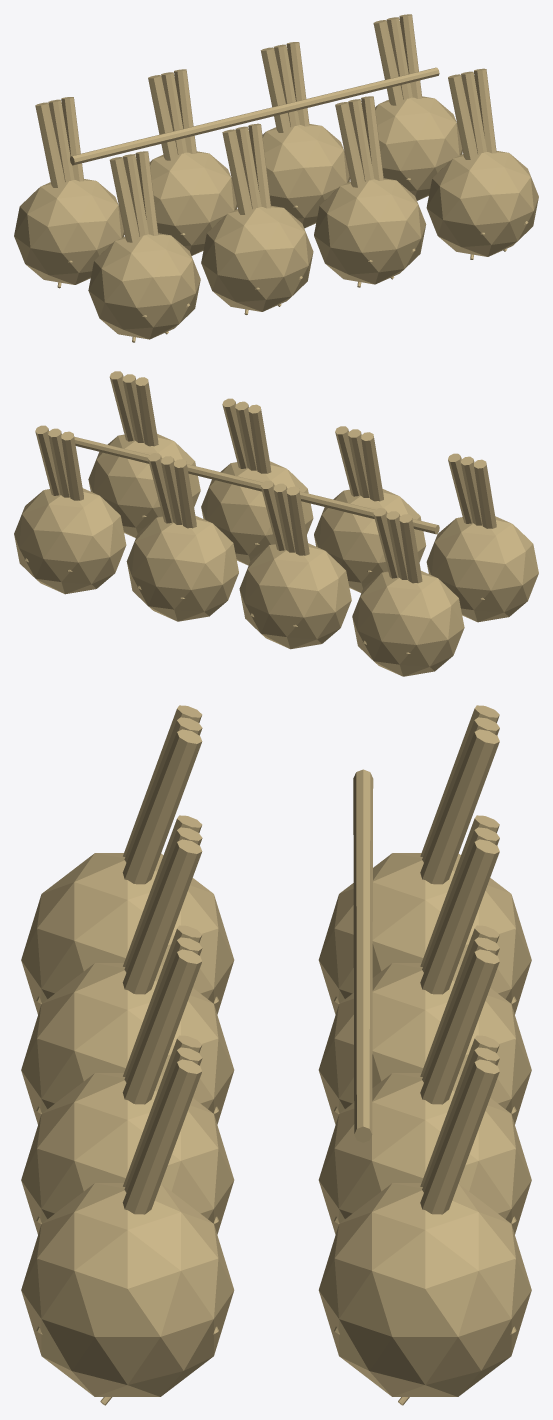
File: GF-004.curing-bulbs.glb
3 renders of one model, top to bottom at view 1: azimuth 30°, elevation 25°; view 2: azimuth 150°, elevation 25°; view 3: azimuth 270°, elevation 25°, orthographic. The views are drawn at different scales.
Parts seen in each view (by area): view 1: GF-004.curing-bulbs GF-004.curing-bulbs batched; view 2: GF-004.curing-bulbs GF-004.curing-bulbs batched; view 3: GF-004.curing-bulbs GF-004.curing-bulbs batched.
Boxes of the visible parts, <box> form: GF-004.curing-bulbs GF-004.curing-bulbs batched: <box>14,14,538,342</box>; GF-004.curing-bulbs GF-004.curing-bulbs batched: <box>14,371,538,676</box>; GF-004.curing-bulbs GF-004.curing-bulbs batched: <box>21,705,531,1405</box>.
Bounding box in the file's own units: 0.4044 × 0.1517 × 0.206.
